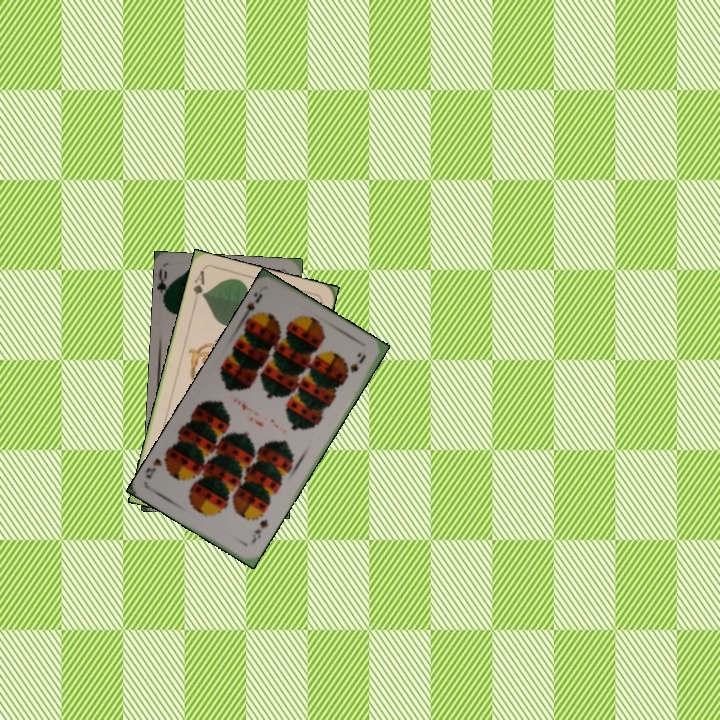GA: (189, 267, 208, 307)
GO: (156, 266, 176, 307)
S9: (238, 289, 265, 324), (246, 515, 271, 547)
